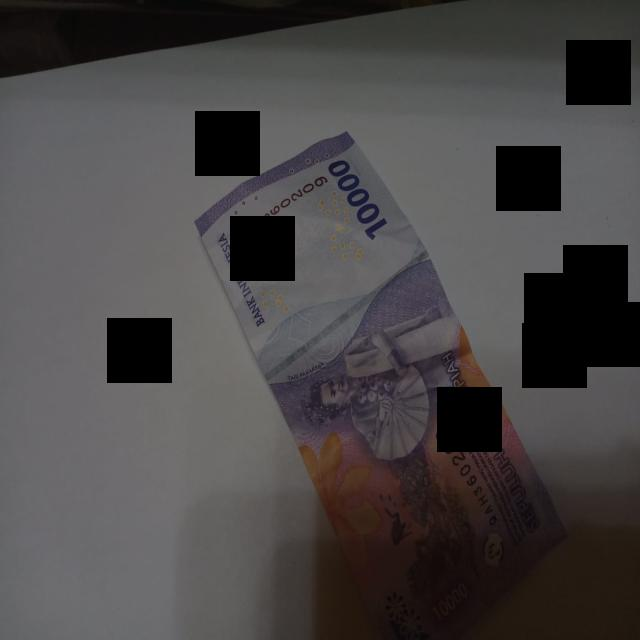sepuluhribu rupiah: (196, 133, 565, 638)
